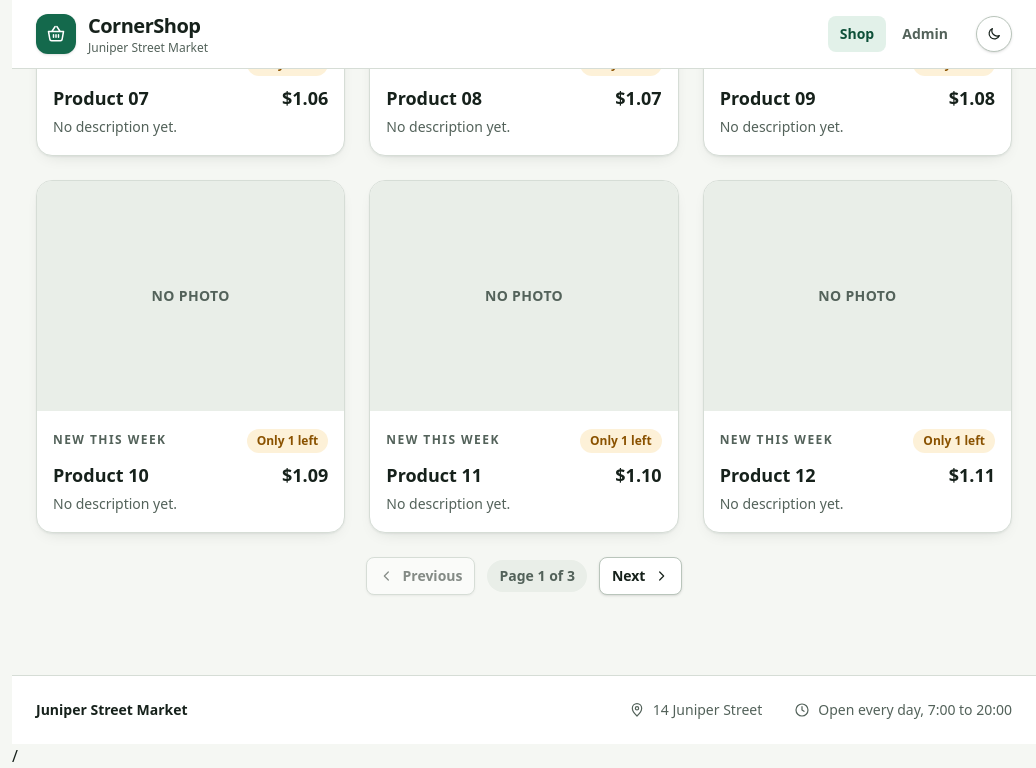
Test case: the storefront › moves between pages and keeps the page in the URL
This screenshot has width=1036, height=768.
(page scrolled)
Expected: the text "Page 1 of 3" is shown, left=488, top=560, right=587, bottom=592
Expected: the button with aria-label "Previous page" is disabled, left=366, top=557, right=475, bottom=595
Click the button with aria-label "Next page": {"x": 641, "y": 576} left=599, top=557, right=682, bottom=595
(page scrolled)
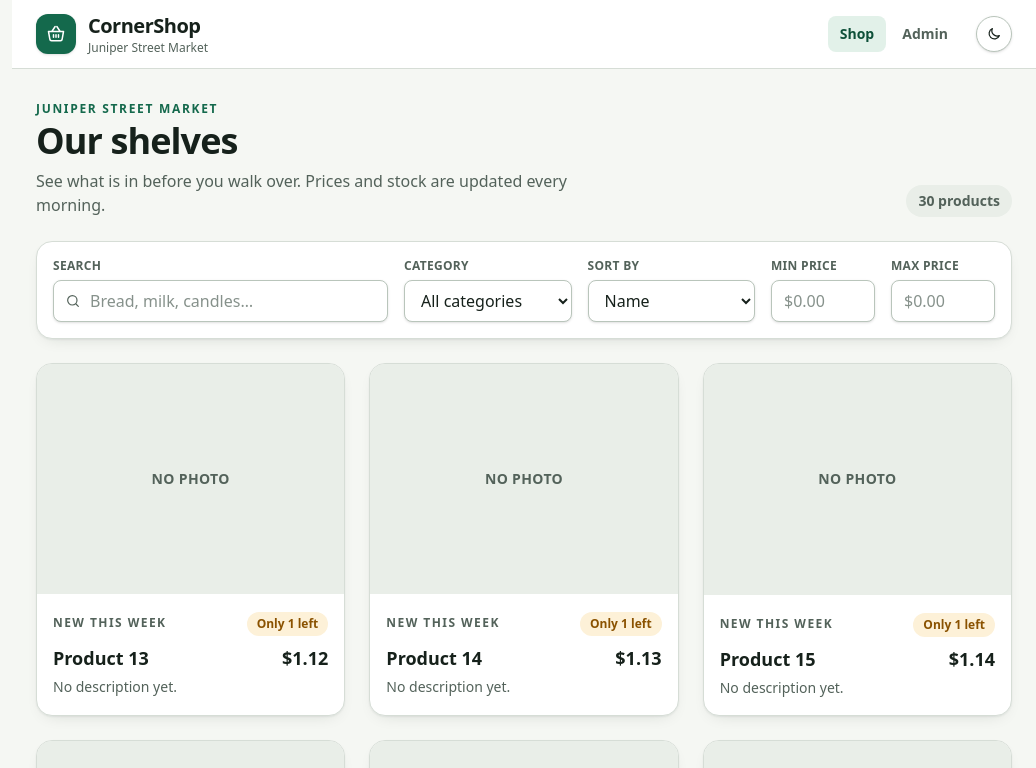
Now the link "Product 13" is shown, box left=53, top=646, right=149, bottom=670
In the search field labelled "Search": {"x": 220, "y": 301} left=53, top=280, right=388, bottom=322, type "0"
(page scrolled)
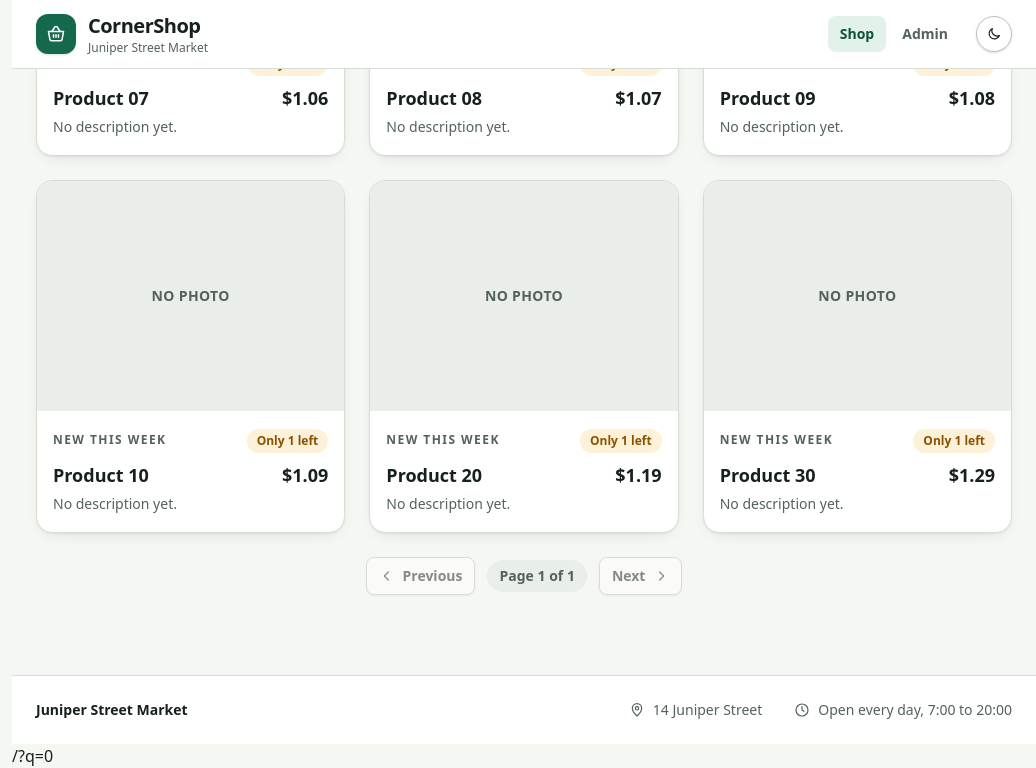
Now the text with test id "location" reads "/?q=0", box left=12, top=745, right=53, bottom=767
